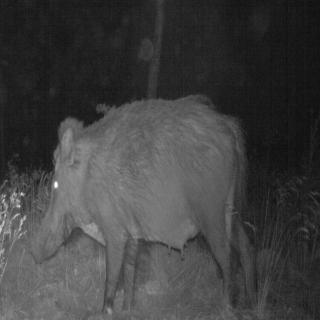Pig: (21, 110, 256, 316)
